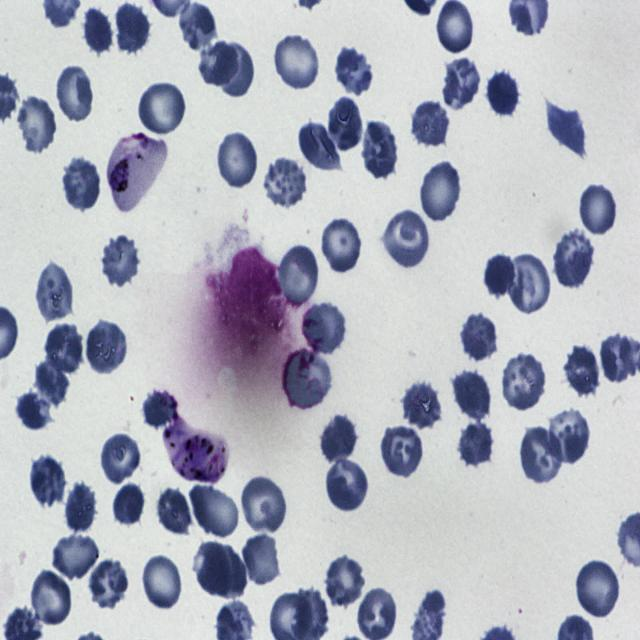red blood cell: (282, 348, 332, 412), (240, 473, 290, 537), (382, 206, 431, 270), (272, 30, 322, 92), (276, 241, 320, 310), (188, 482, 240, 540), (506, 252, 553, 316), (137, 78, 188, 136), (574, 558, 622, 619), (419, 158, 463, 224), (500, 352, 549, 411), (518, 424, 565, 485), (552, 227, 595, 291), (216, 130, 260, 192), (300, 299, 347, 357), (53, 60, 96, 123), (34, 260, 75, 325), (14, 94, 58, 154), (548, 404, 592, 464), (320, 214, 362, 276), (324, 456, 369, 513), (262, 156, 310, 208), (140, 554, 183, 612), (380, 422, 424, 477), (85, 320, 128, 376), (100, 232, 142, 289), (545, 100, 586, 158), (298, 119, 342, 173), (323, 554, 367, 608), (100, 430, 142, 486), (204, 544, 246, 600), (332, 45, 376, 98), (29, 572, 72, 626), (401, 377, 443, 432), (213, 42, 254, 98), (450, 366, 490, 423), (176, 0, 218, 54), (60, 157, 101, 212), (87, 559, 131, 610), (442, 54, 482, 110), (242, 531, 282, 587), (52, 535, 100, 581), (361, 121, 399, 179), (44, 321, 84, 376), (326, 96, 364, 153), (28, 454, 68, 508), (579, 182, 618, 237), (319, 413, 360, 464), (460, 311, 499, 363), (193, 544, 232, 596), (34, 355, 72, 408), (597, 332, 634, 385), (456, 419, 496, 468), (411, 96, 450, 146), (113, 5, 151, 56), (200, 40, 241, 87), (156, 487, 194, 536), (482, 251, 518, 302), (15, 389, 58, 431), (485, 70, 521, 120), (64, 481, 98, 533), (564, 346, 599, 396), (112, 481, 147, 529), (141, 390, 180, 430), (78, 8, 110, 55)
trophozoite: (106, 134, 168, 210), (163, 421, 229, 485)
